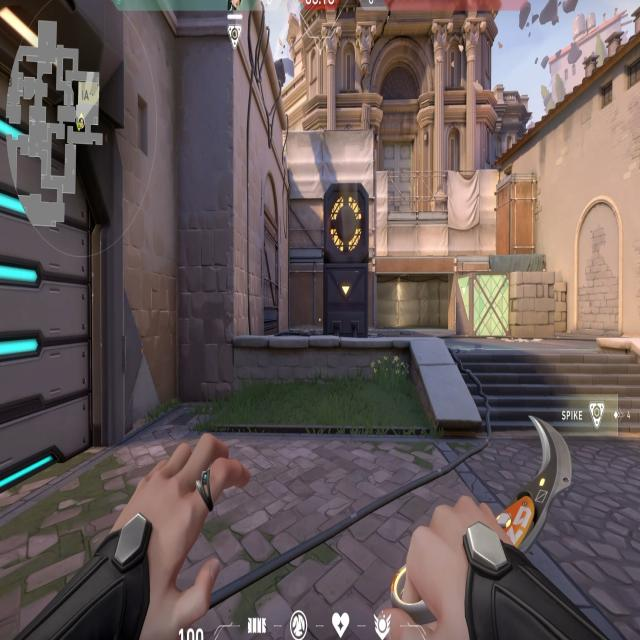A_Heaven_Box: (496, 174, 539, 259)
A_Heaven_Wall: (280, 122, 382, 253)
A_Hell: (371, 258, 468, 341)
A_Site_Box: (454, 270, 557, 336)
